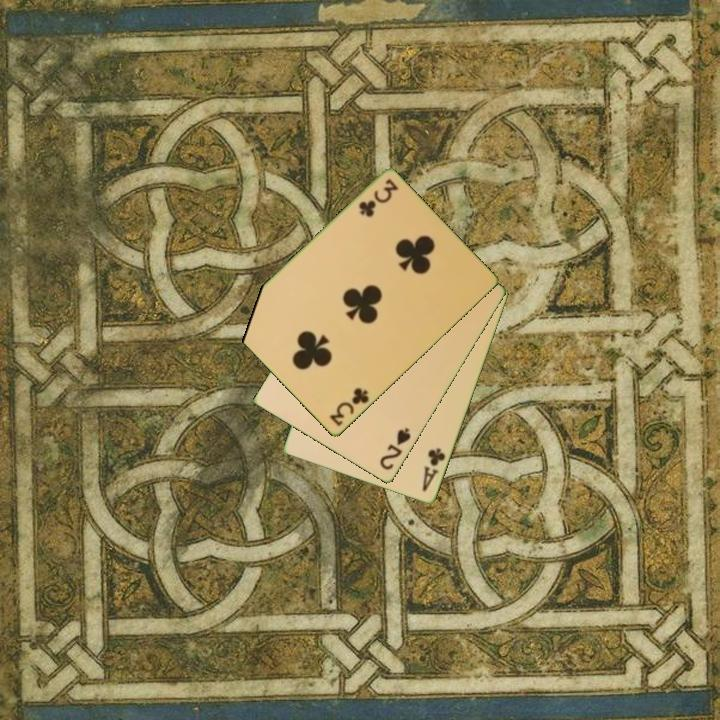2s: (376, 424, 414, 473)
3c: (326, 384, 372, 429), (355, 175, 401, 220)
Ac: (419, 445, 449, 495)
